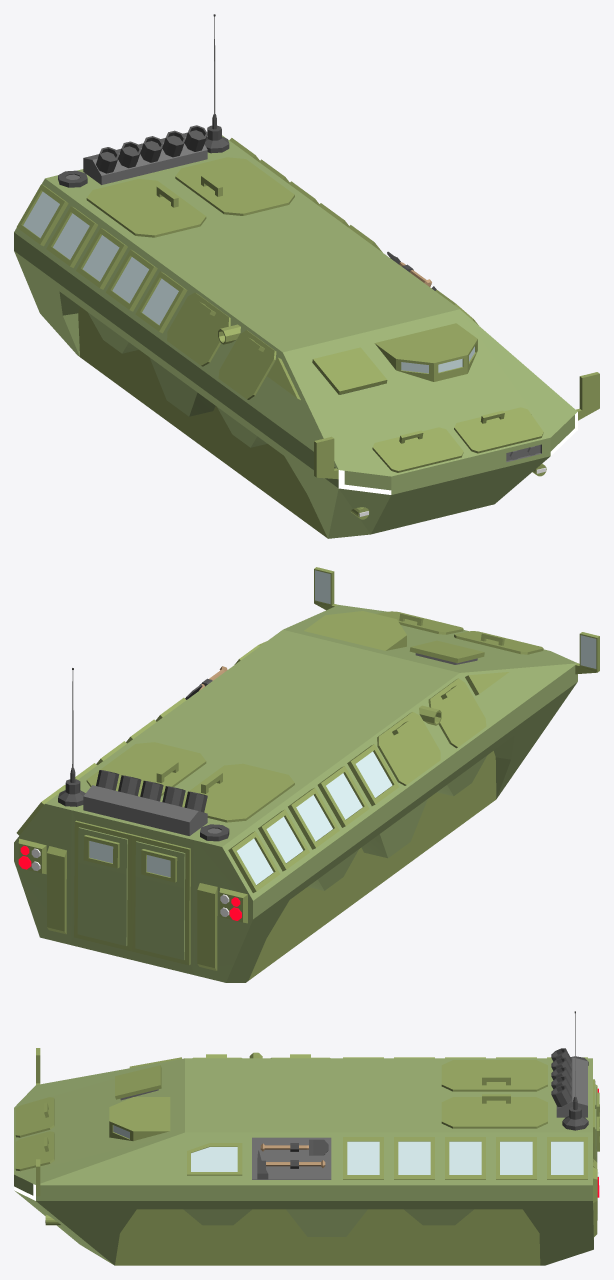
The model's file is LazarBody.fbx.
3 renders of one model, top to bottom at view 1: azimuth 30°, elevation 25°; view 2: azimuth 150°, elevation 25°; view 3: azimuth 270°, elevation 25°, orthographic. The views are drawn at different scales.
Visible parts, largest first — view 1: LazarBody; view 2: LazarBody; view 3: LazarBody.
Boxes of the visible parts, x1,y1,x2,y2 form: LazarBody: (14, 14, 599, 538); LazarBody: (14, 567, 599, 982); LazarBody: (14, 1011, 599, 1265).
Bounding box in the file's own units: 640 × 626 × 1336.
